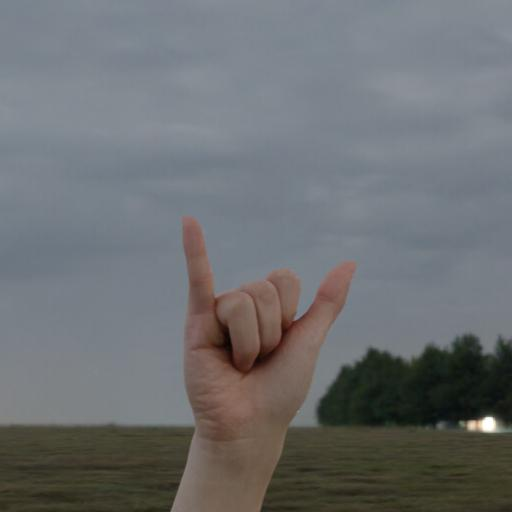Y: (170, 209, 364, 460)
